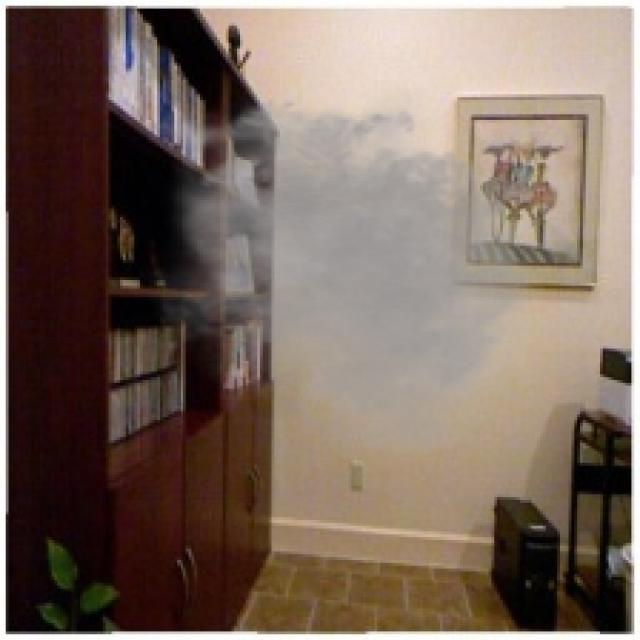smoke: (137, 80, 557, 466)
